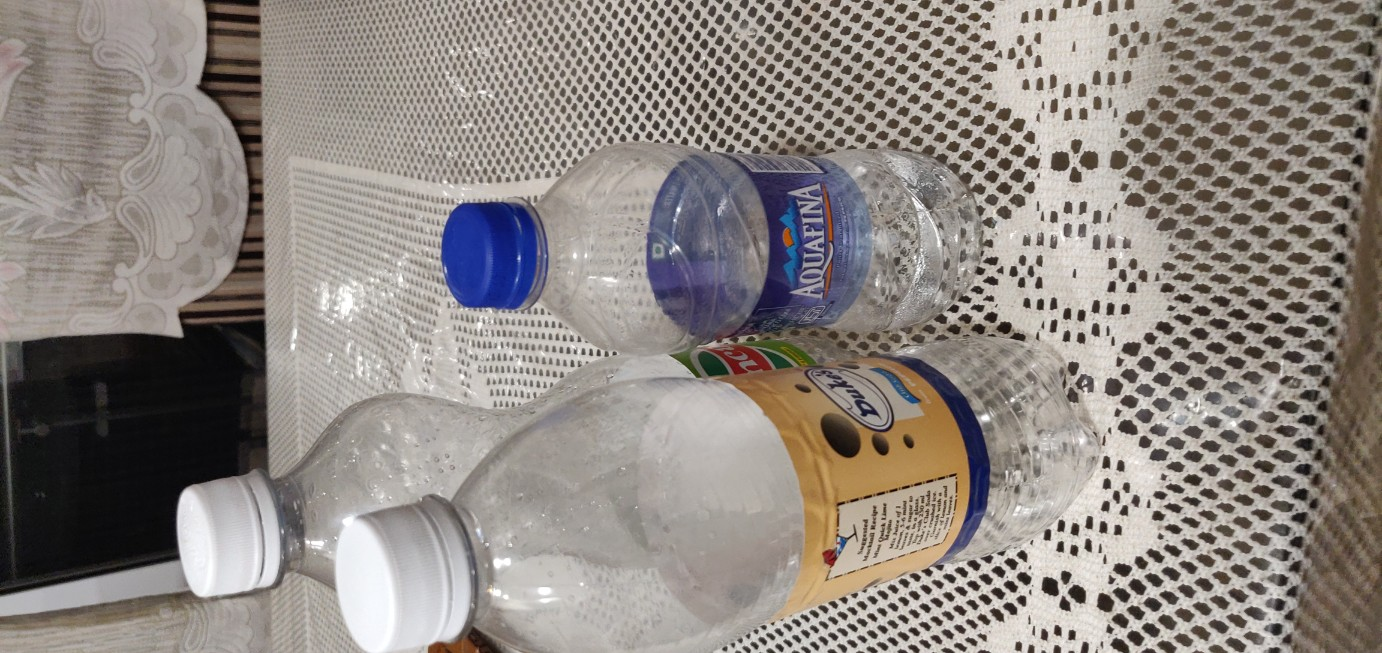Electronics: (140, 313, 935, 652), (322, 317, 1124, 653), (409, 120, 1024, 365)
